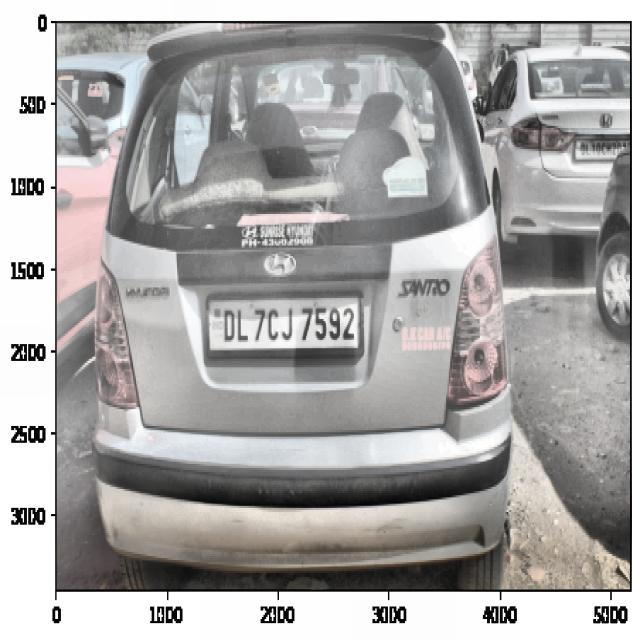license_plate: (218, 298, 358, 351)
